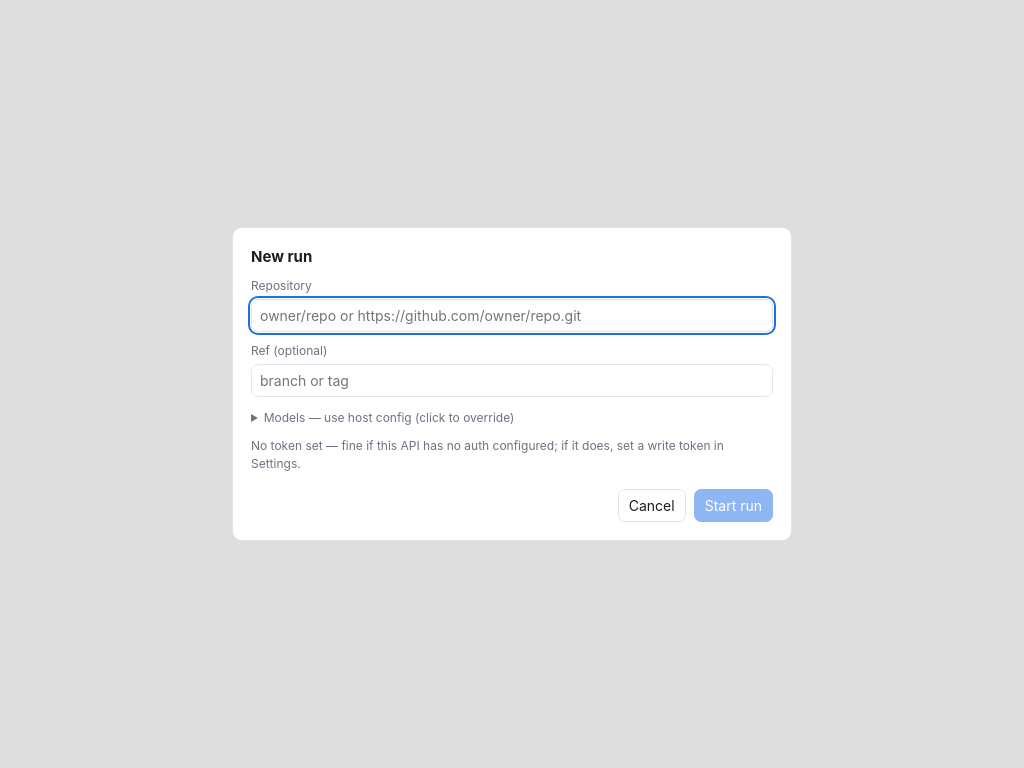
Scenario: NewRunModal › does not require a token client-side — the server is the source of truth on auth
Type "octocat/Hello-World" into the field with placeholder "owner/repo or https://github.com/owner/repo.git".
click(512, 315); type("octocat/Hello-World")  # box [251, 299, 773, 332]
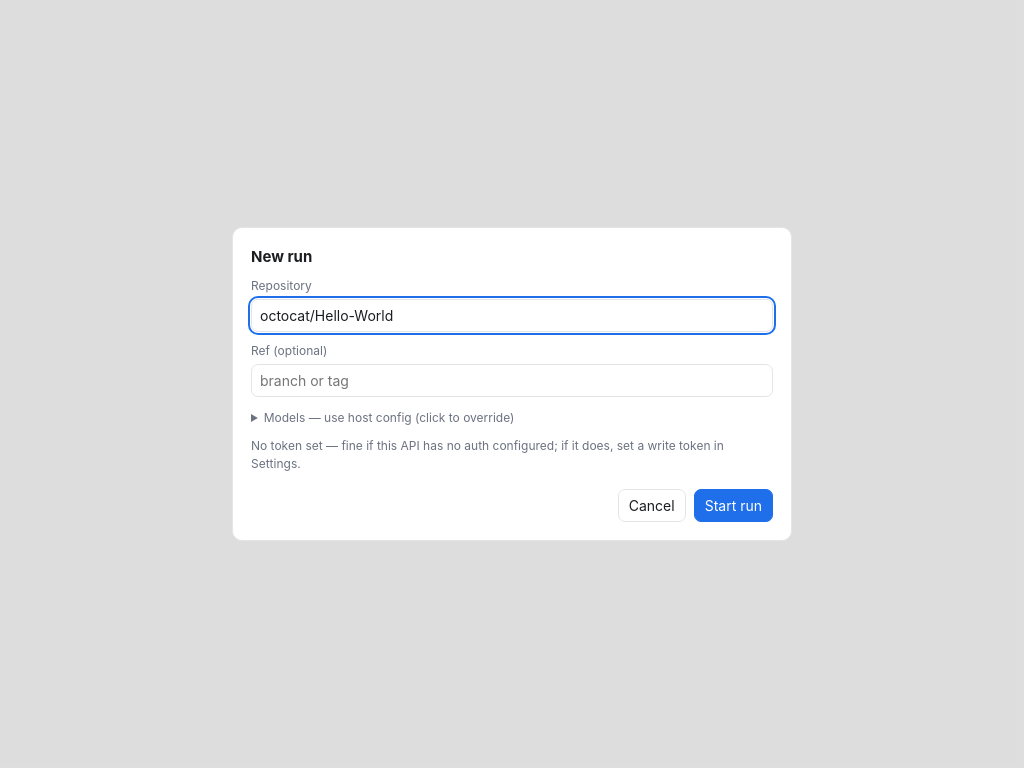
Expected: the text "no auth configured" is shown, [251, 438, 724, 471]
Expected: the button "Start run" is enabled, [694, 489, 773, 522]
